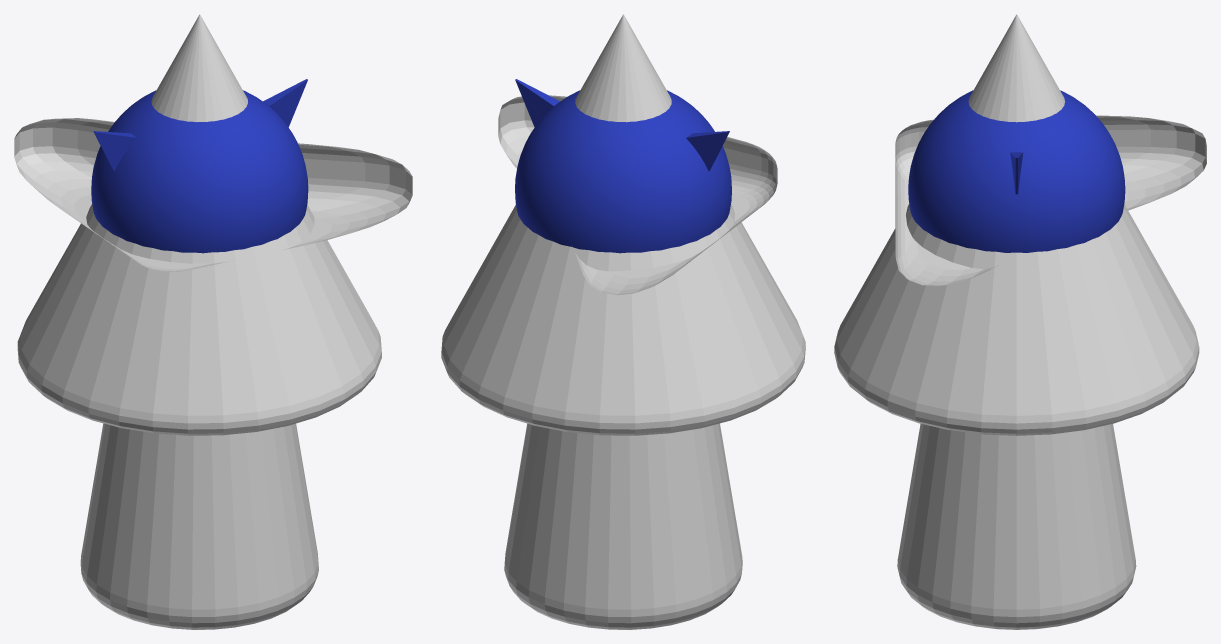
Rendered from SphereArrow.glb.
3 views of the same model, side by side, from view 1: azimuth 30°, elevation 25°; view 2: azimuth 150°, elevation 25°; view 3: azimuth 270°, elevation 25° (orthographic).
Parts seen in each view (by area): view 1: Cone, Sphere, Plane, Plane.002; view 2: Cone, Sphere, Plane, Plane.002; view 3: Cone, Sphere, Plane.
Boxes of the visible parts, x1,y1,x2,y2 form: Cone: [17, 14, 381, 629]; Sphere: [91, 90, 308, 253]; Plane: [14, 118, 412, 271]; Plane.002: [93, 79, 307, 171]; Cone: [441, 14, 805, 629]; Sphere: [515, 90, 731, 253]; Plane: [498, 95, 777, 295]; Plane.002: [515, 79, 729, 170]; Cone: [834, 14, 1199, 629]; Sphere: [908, 90, 1125, 252]; Plane: [895, 115, 1206, 285].
Bounding box in the file's own units: 1.92 × 3.27 × 1.92.
